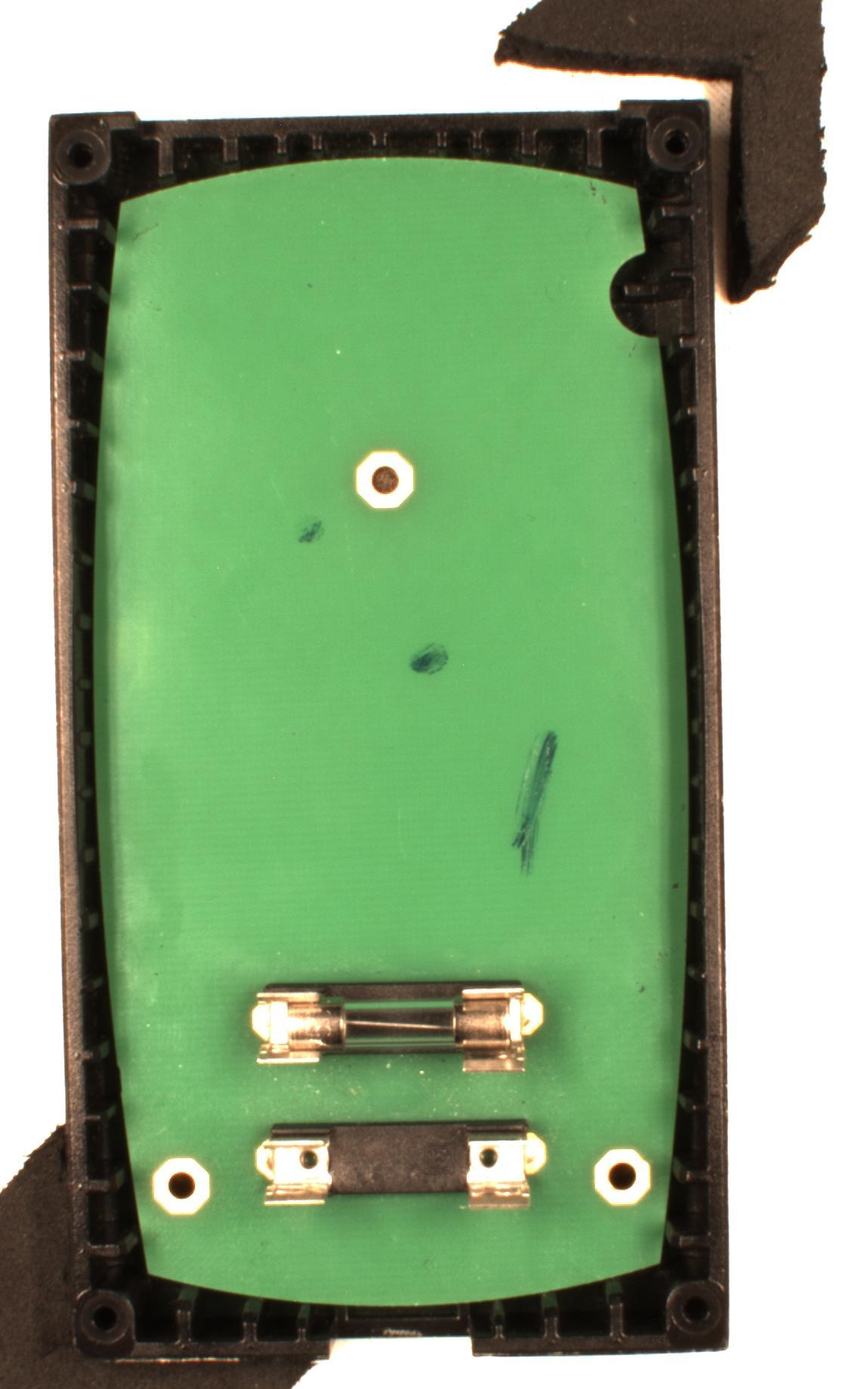Linijsko Ostecene: (510, 729, 560, 878)
Nepostojanje osiguraca: (254, 1117, 548, 1212)
Tockasto Ostecenje: (409, 641, 450, 676), (297, 517, 326, 545)
